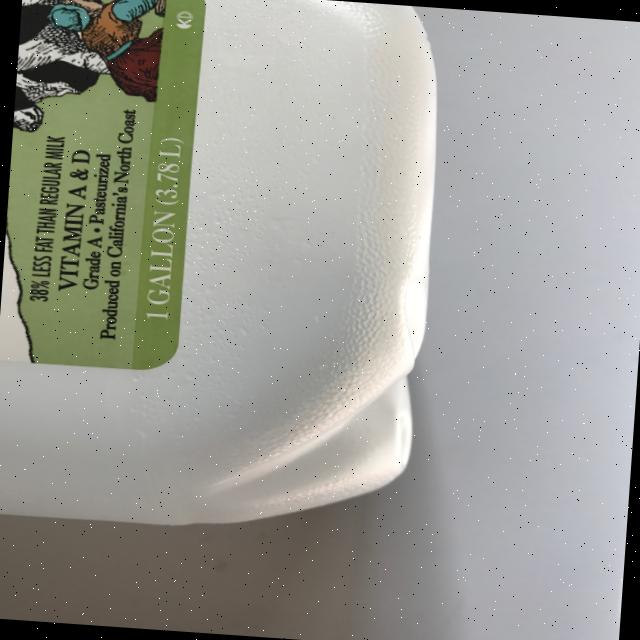plastic: (0, 0, 448, 542)
